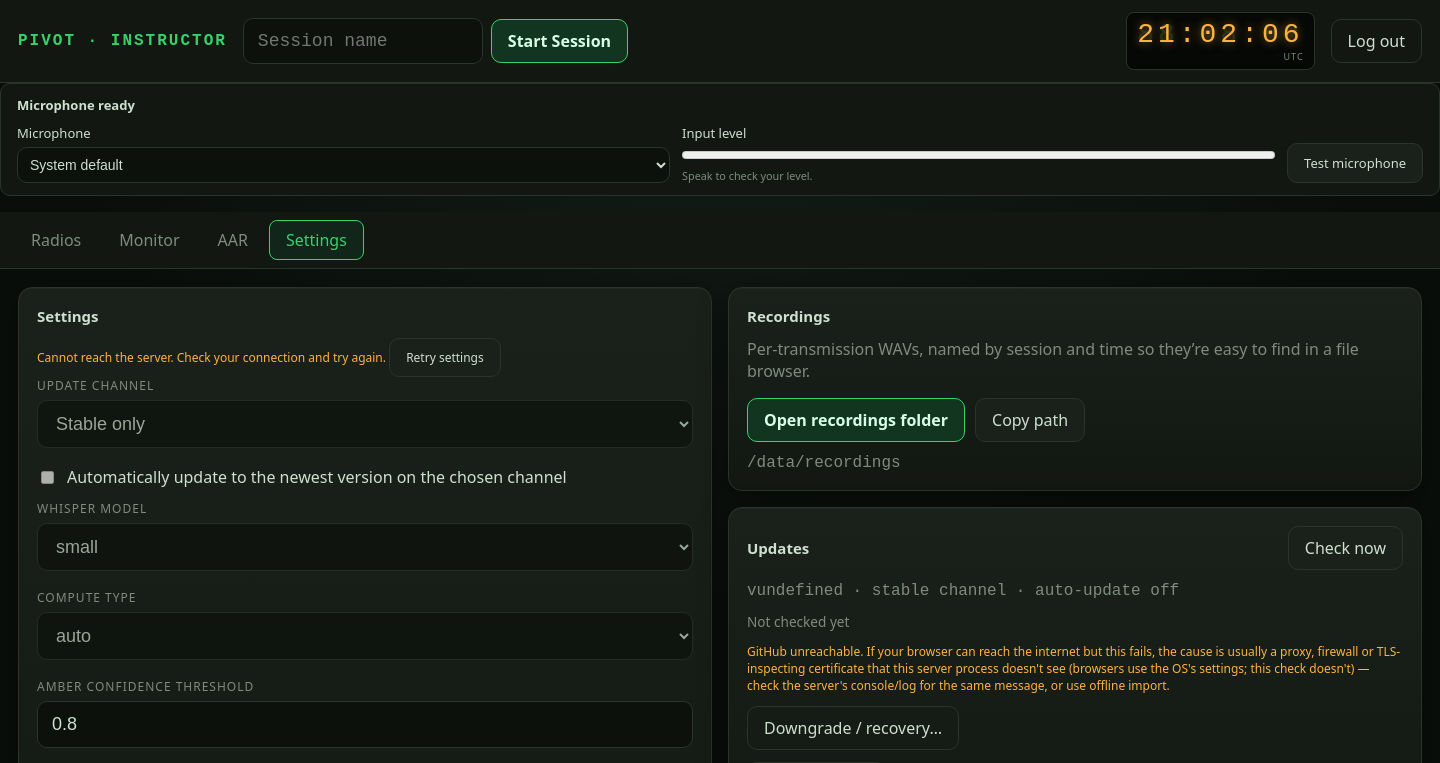
instructor request failures › keeps settings disabled until a failed load is retried successfully
The image size is (1440, 763).
Expected: the message "Cannot reach the server. Check your connection and try again. Retry settings" is shown, [37, 338, 501, 377]
Click the button "Retry settings". click: (445, 358)
box: [389, 338, 501, 377]
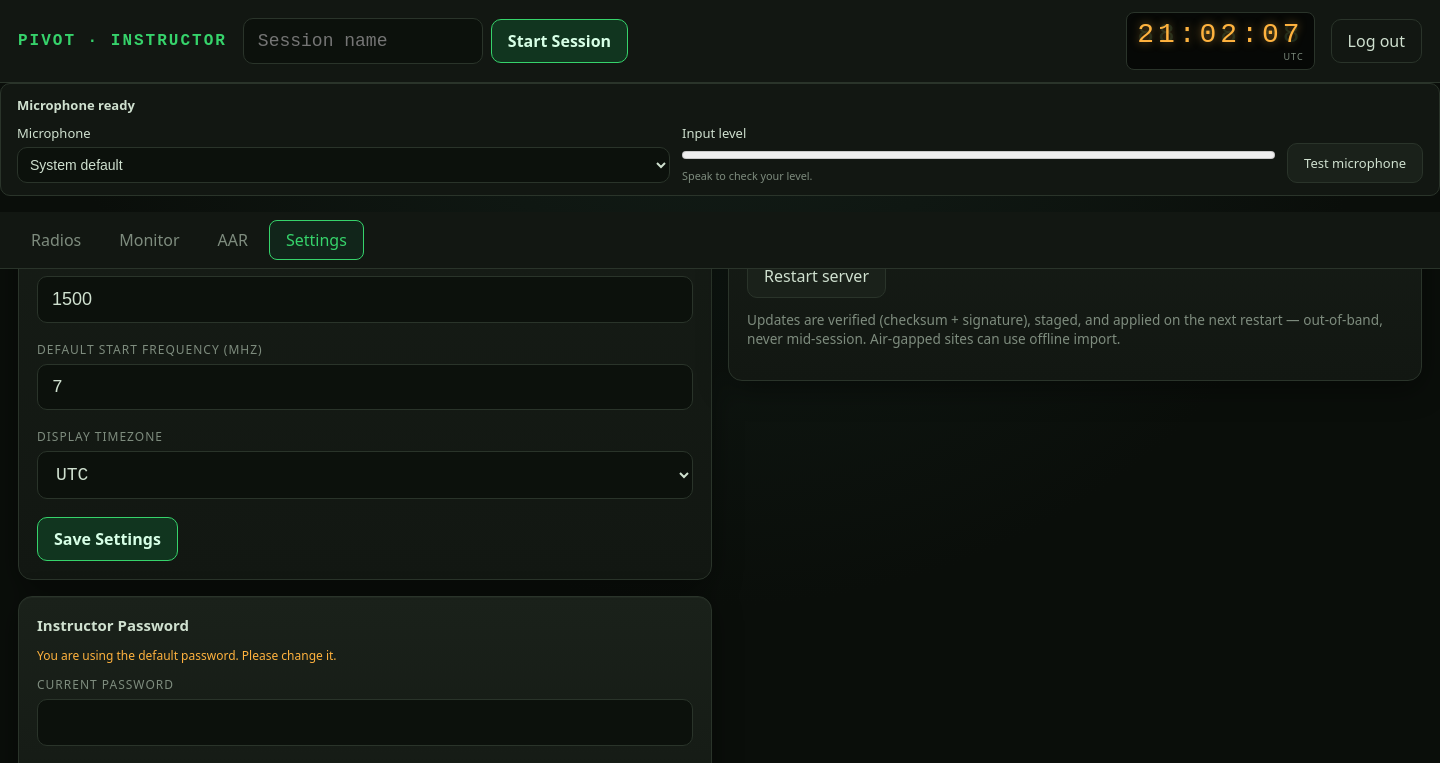
Now the button "Save Settings" is enabled, box [37, 517, 178, 561]
